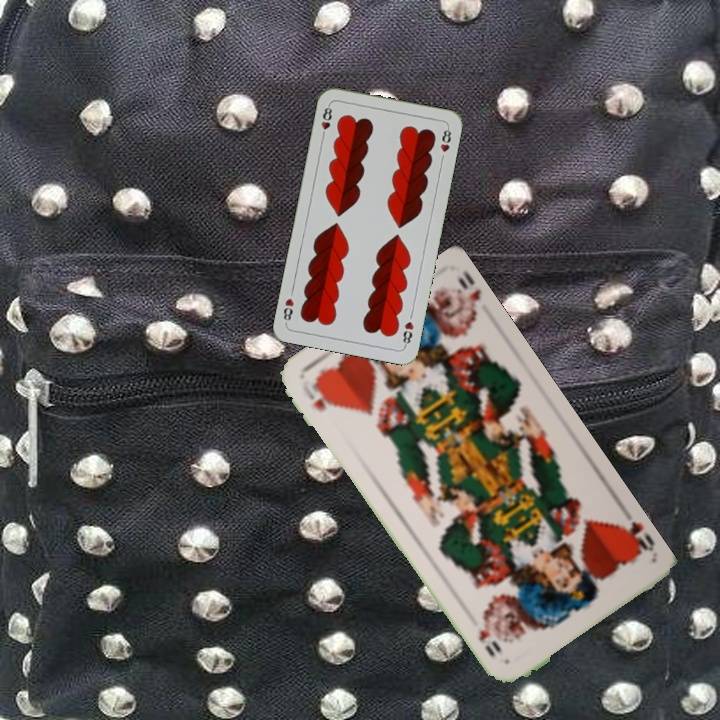H8: (317, 101, 335, 141), (399, 317, 416, 349)
HO: (609, 517, 657, 560), (298, 374, 337, 415)
